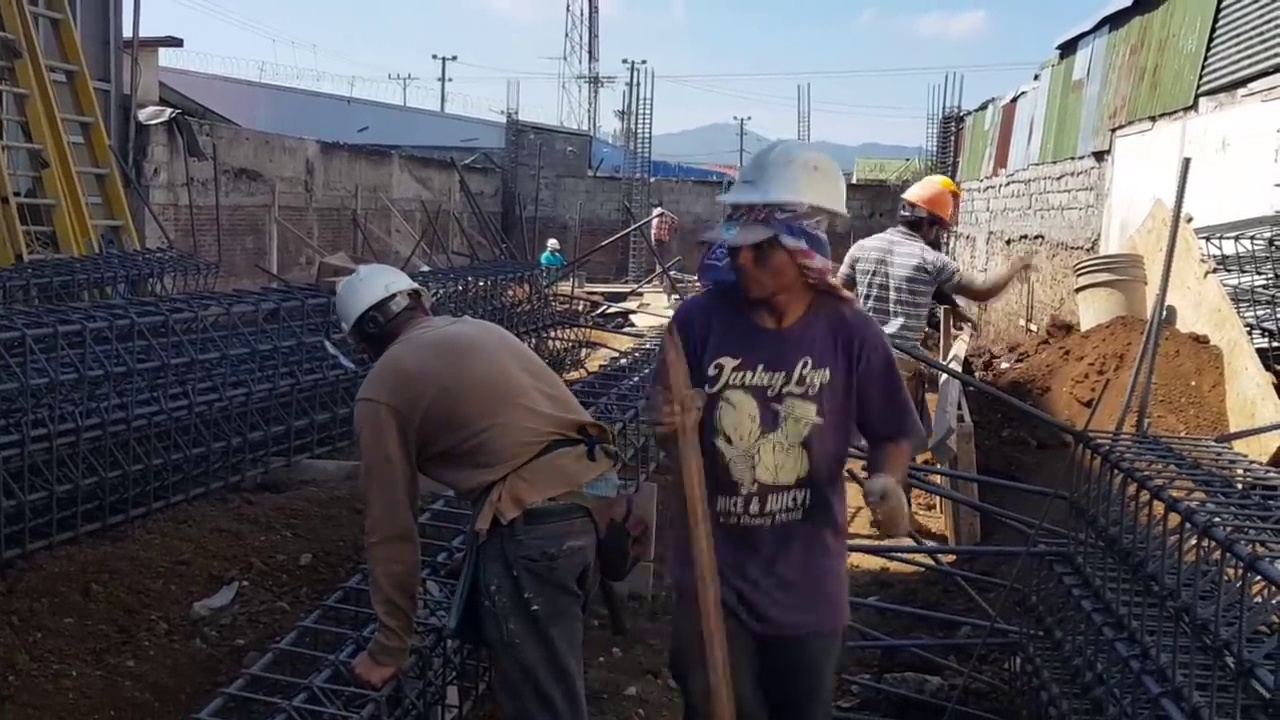helmet: (712, 137, 851, 226), (331, 267, 421, 345), (900, 174, 961, 224), (547, 238, 560, 250)
helmet-off: (648, 200, 664, 212)
helmet-on: (715, 141, 856, 325), (333, 260, 436, 362), (899, 172, 961, 250), (546, 238, 561, 254)
person: (635, 141, 908, 693), (332, 258, 629, 672), (839, 174, 1025, 435), (649, 203, 679, 280), (540, 238, 563, 268)
